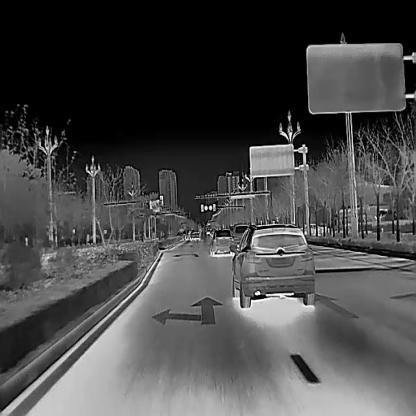car: (228, 221, 315, 308), (208, 227, 233, 255), (230, 222, 251, 252), (185, 228, 200, 240)
